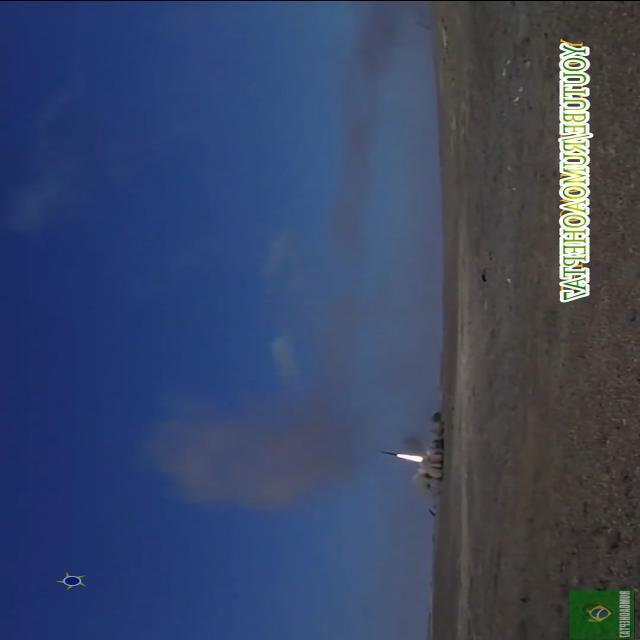Missile: (365, 446, 405, 457)
